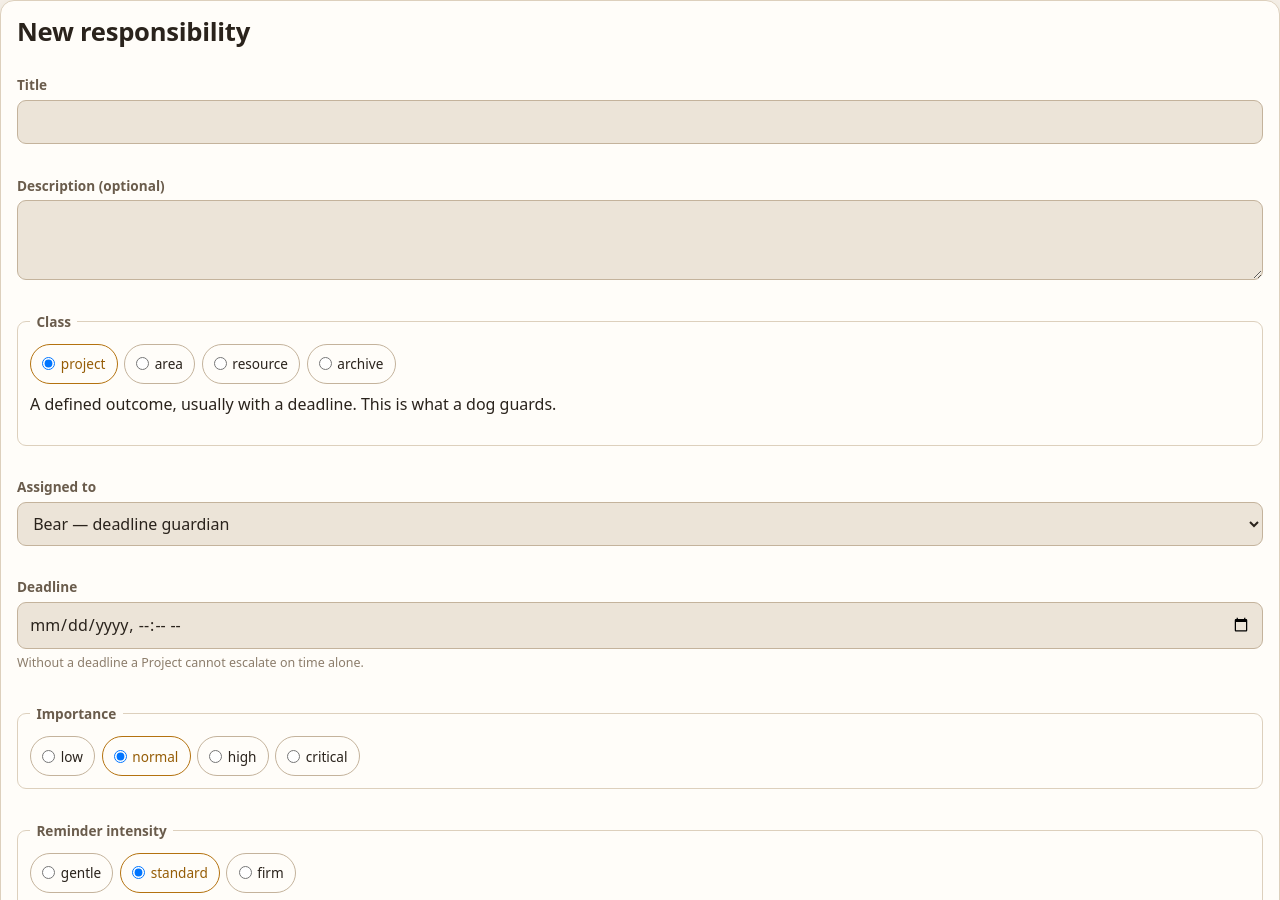
it: ResponsibilityEditor › swaps the deadline field for an interval when the class is an Area
The image size is (1280, 900).
Expected: the field labelled "Deadline" is shown, top-left (17, 602), bottom-right (1263, 649)
What coordinates should you click on to do the following:
click the radio button labelled "area"
I would click on:
 (143, 364)
Its box is top-left (136, 357), bottom-right (149, 370).
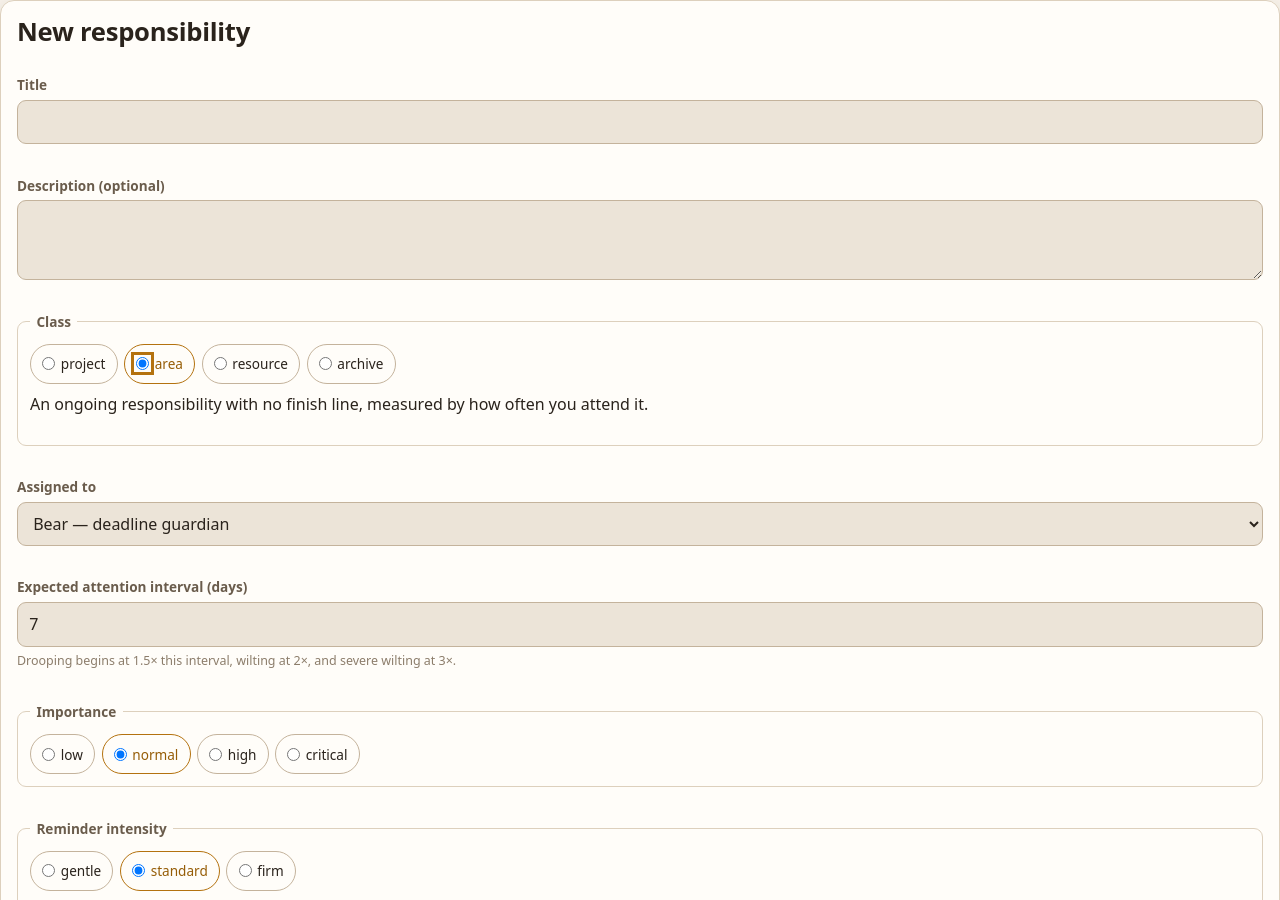
Expected: the number field labelled "Expected attention interval (days)" is shown, top-left (17, 602), bottom-right (1263, 647)
